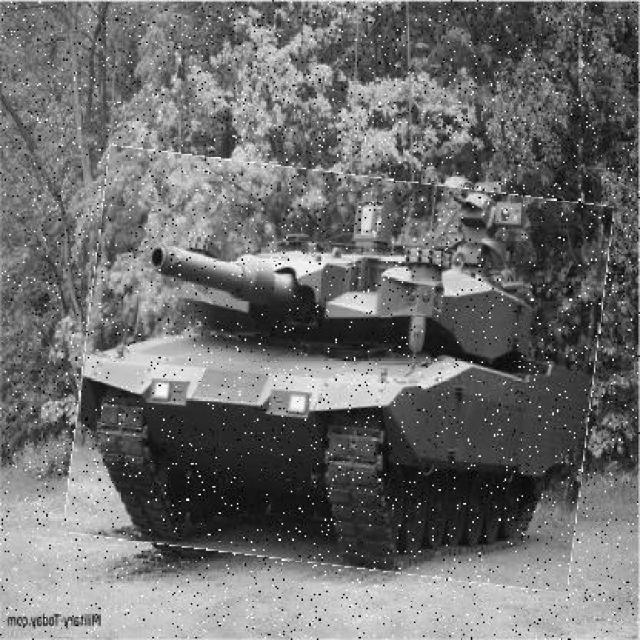Tank: (75, 161, 604, 578)
